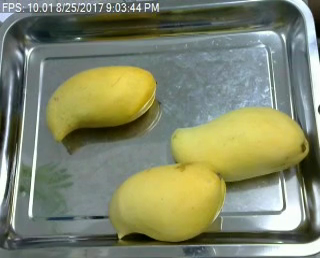Mango: (169, 107, 310, 184), (107, 163, 231, 244), (46, 62, 158, 142)
